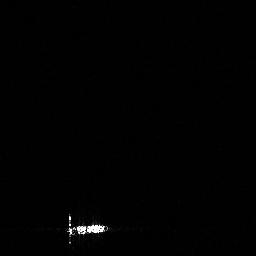ship: (62, 208, 113, 247)
